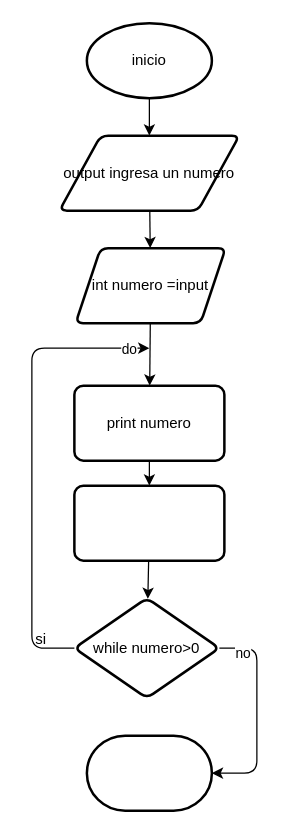
This 289x833 diagram has some shape labels left out. Each missing label, with the centre of its shape:
"fin" goes at (148,772).
"numero--" goes at (148,522).
